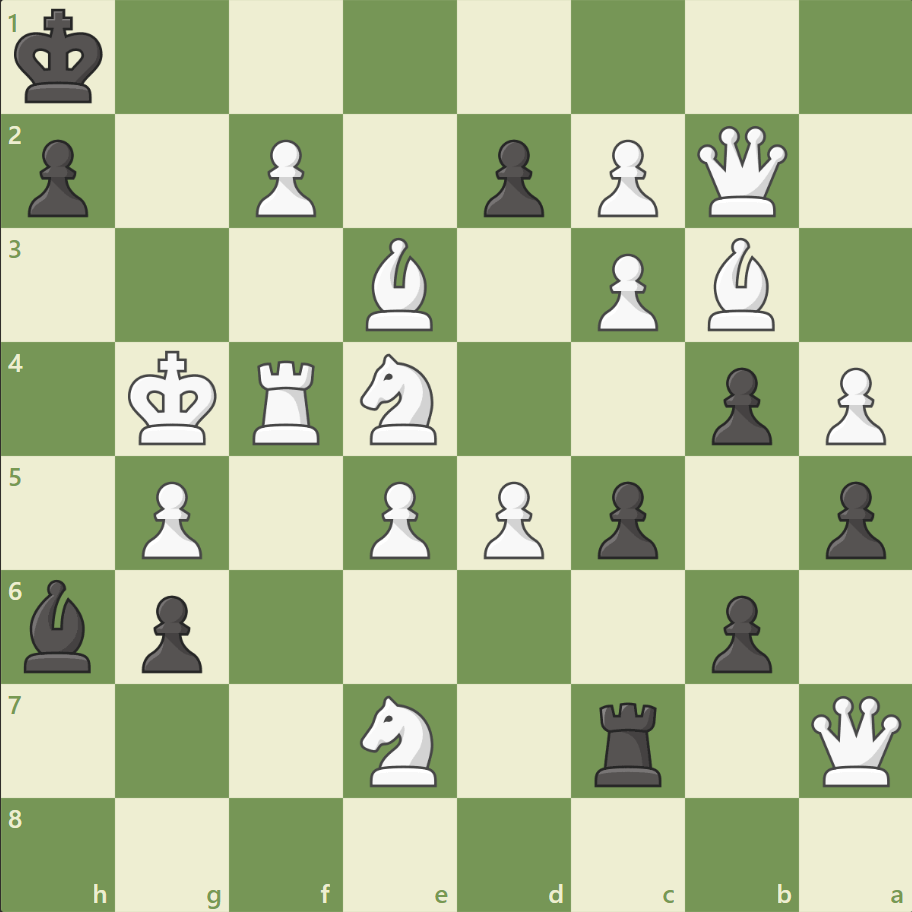B: (698, 233, 782, 336), (358, 233, 442, 336)
K: (124, 344, 224, 452)
N: (351, 688, 449, 791), (351, 348, 449, 450)
P: (474, 473, 549, 564), (133, 473, 208, 564), (247, 132, 322, 223), (361, 473, 435, 564), (815, 359, 889, 450), (588, 246, 662, 337), (588, 132, 662, 223)
Q: (691, 122, 790, 222), (805, 690, 904, 789)
R: (246, 352, 329, 449)
b: (17, 574, 101, 676)
k: (11, 4, 111, 112)
p: (701, 586, 776, 677), (133, 586, 208, 677), (701, 359, 776, 450), (474, 132, 549, 223), (20, 132, 95, 223), (815, 473, 889, 564), (588, 473, 662, 564)
r: (587, 693, 670, 790)
